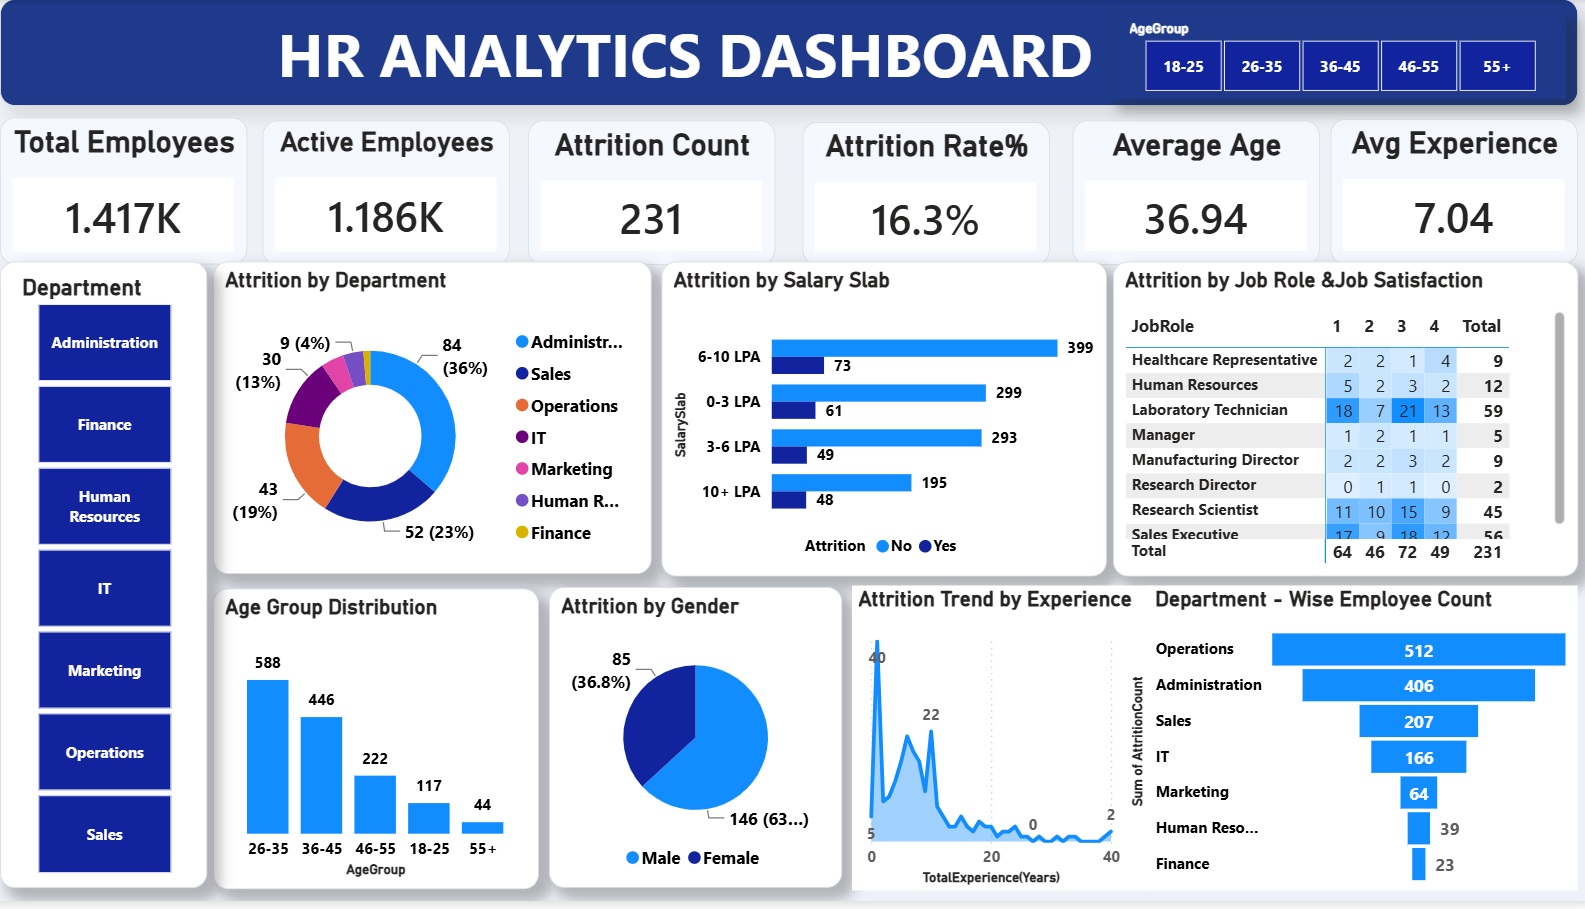

What the dashboard file says about the page in this screenshot:
{"tool":"powerbi","page":{"name":"Page 1","canvas":[1280,720],"ordinal":0},"visuals":[{"type":"textbox","box":[10,0,1259,85],"z":0},{"type":"cardVisual","title":"Total Employees","fields":{"Data":["CountNonNull(HR_Analytics-4.EmpID)"]},"box":[10,95,197.5,117.5],"z":1000},{"type":"cardVisual","title":"Attrition Rate%","fields":{"Data":["HR_Analytics-4.Attrition Rate %"]},"box":[650,98.8,197.5,113.8],"z":2000},{"type":"cardVisual","title":"Active Employees","fields":{"Data":["CountNonNull(HR_Analytics-4.EmployeeCount)"]},"box":[218.8,97.5,197.5,115],"z":3000},{"type":"cardVisual","title":"Attrition Count ","fields":{"Data":["Sum(HR_Analytics-4.AttritionCount)"]},"box":[431.2,97.5,197.5,115],"z":4000},{"type":"cardVisual","title":"Average Age ","fields":{"Data":["Avg(HR_Analytics-4.Age)"]},"box":[865,97.5,197.5,115],"z":5000},{"type":"cardVisual","title":"Avg Experience","fields":{"Data":["Avg(HR_Analytics-4.YearsatCompany)"]},"box":[1071.2,96.2,197.5,116.2],"z":6000},{"type":"donutChart","title":"Attrition by Department","fields":{"Category":["HR_Analytics-4.Department"],"Y":["Sum(HR_Analytics-4.AttritionCount)"]},"box":[179,210,350,249],"z":7000},{"type":"clusteredBarChart","title":"Attrition by Salary Slab","fields":{"Category":["HR_Analytics-4.SalarySlab"],"Series":["HR_Analytics-4.Attrition"],"Y":["CountNonNull(HR_Analytics-4.EmpID)"]},"box":[537,209,355,251],"z":8000},{"type":"pivotTable","title":"Attrition by Job Role &Job Satisfaction","fields":{"Columns":["HR_Analytics-4.JobSatisfaction"],"Rows":["HR_Analytics-4.JobRole"],"Values":["Sum(HR_Analytics-4.AttritionCount)"]},"box":[898,209,371,251],"z":9000},{"type":"columnChart","title":"Age Group Distribution","fields":{"Category":["HR_Analytics-4.AgeGroup"],"Y":["Sum(HR_Analytics-4.EmployeeCount)"]},"box":[180,470,260,240],"z":9001},{"type":"pieChart","title":"Attrition by Gender","fields":{"Category":["HR_Analytics-4.Gender"],"Y":["Sum(HR_Analytics-4.AttritionCount)"]},"box":[448,469,234,240],"z":9002},{"type":"areaChart","title":"Attrition Trend by Experience","fields":{"Category":["HR_Analytics-4.TotalExperience(Years)"],"Y2":["Sum(HR_Analytics-4.AttritionCount)"]},"box":[689,468.3,238.3,243.3],"z":9003},{"type":"funnel","title":"Department - Wise Employee Count","fields":{"Category":["HR_Analytics-4.Department"],"Y":["CountNonNull(HR_Analytics-4.EmpID)"]},"box":[927,468,342,243],"z":9004},{"type":"slicer","fields":{"Values":["HR_Analytics-4.Department"]},"box":[9,209,165,500],"z":9005},{"type":"slicer","fields":{"Values":["HR_Analytics-4.AgeGroup"]},"box":[898,12,361,68],"z":9006}]}

Visuals, with their boxes in screenshot pixels (x1, y1, x2, y2), scaled from the page's 1280x720 canvas onto the 1585x909 screenshot:
textbox: {"left": 12, "top": 0, "right": 1571, "bottom": 107}
"Total Employees" cardVisual: {"left": 12, "top": 120, "right": 257, "bottom": 268}
"Attrition Rate%" cardVisual: {"left": 805, "top": 125, "right": 1049, "bottom": 268}
"Active Employees" cardVisual: {"left": 271, "top": 123, "right": 515, "bottom": 268}
"Attrition Count " cardVisual: {"left": 534, "top": 123, "right": 779, "bottom": 268}
"Average Age " cardVisual: {"left": 1071, "top": 123, "right": 1316, "bottom": 268}
"Avg Experience" cardVisual: {"left": 1326, "top": 121, "right": 1571, "bottom": 268}
"Attrition by Department" donutChart: {"left": 222, "top": 265, "right": 655, "bottom": 579}
"Attrition by Salary Slab" clusteredBarChart: {"left": 665, "top": 264, "right": 1105, "bottom": 581}
"Attrition by Job Role &Job Satisfaction" pivotTable: {"left": 1112, "top": 264, "right": 1571, "bottom": 581}
"Age Group Distribution" columnChart: {"left": 223, "top": 593, "right": 545, "bottom": 896}
"Attrition by Gender" pieChart: {"left": 555, "top": 592, "right": 845, "bottom": 895}
"Attrition Trend by Experience" areaChart: {"left": 853, "top": 591, "right": 1148, "bottom": 898}
"Department - Wise Employee Count" funnel: {"left": 1148, "top": 591, "right": 1571, "bottom": 898}
slicer - HR_Analytics-4.Department: {"left": 11, "top": 264, "right": 215, "bottom": 895}
slicer - HR_Analytics-4.AgeGroup: {"left": 1112, "top": 15, "right": 1559, "bottom": 101}
